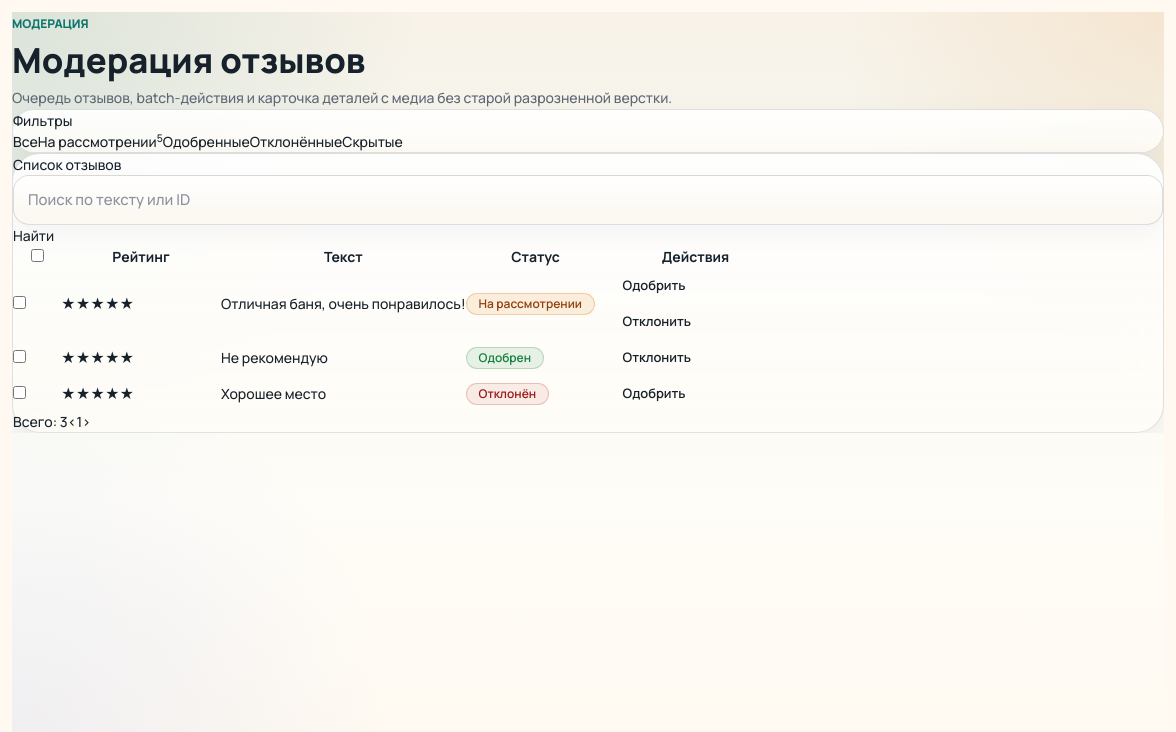
it: ReviewModeration › shows batch action buttons when items selected
Select all checkbox (header)
Click the checkbox next to "Рейтинг". click: (37, 256)
box: [30,249,44,262]
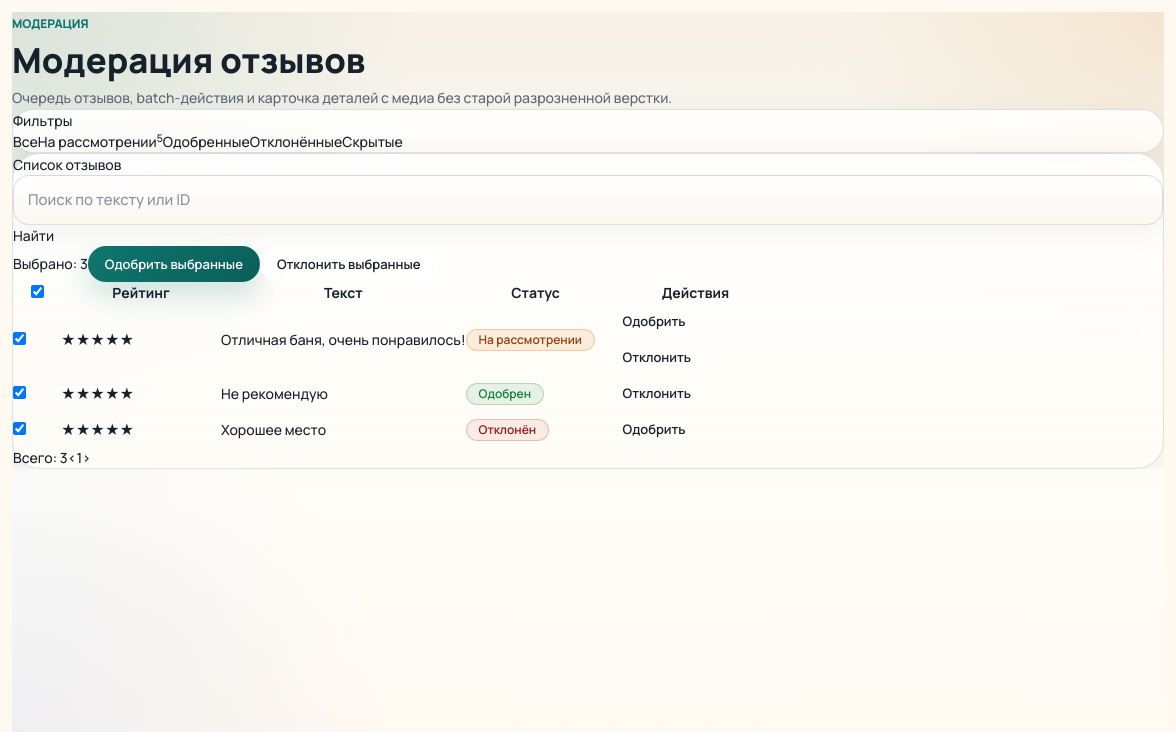
expect the text "Выбрано: 3" is shown: met, box [13,254,88,273]
expect the text "Одобрить выбранные" is shown: met, box [105,255,243,274]
expect the text "Отклонить выбранные" is shown: met, box [277,255,420,274]
